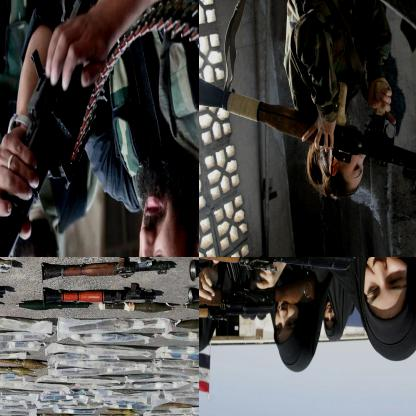rifle: (199, 68, 415, 210), (0, 0, 103, 256), (199, 270, 315, 325), (11, 286, 178, 314), (30, 257, 176, 284)
